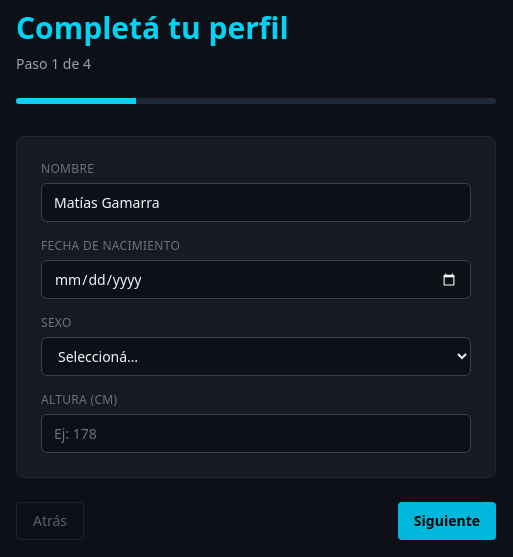
Test case: Onboarding › avanza al paso 2 con datos válidos del paso 1
Type "2002-02-18" into the date field labelled "Fecha de nacimiento" at (256, 280), box x1=41 y1=260 x2=471 y2=299
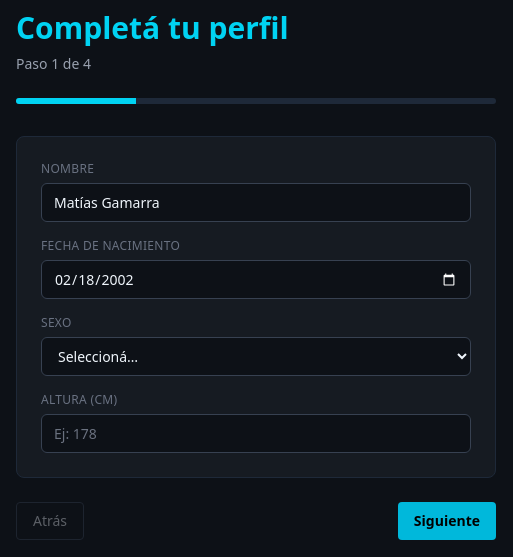
Sexo (el único select)
Select "Masculino" in the dropdown labelled "Sexo" at (256, 356), box x1=41 y1=337 x2=471 y2=376
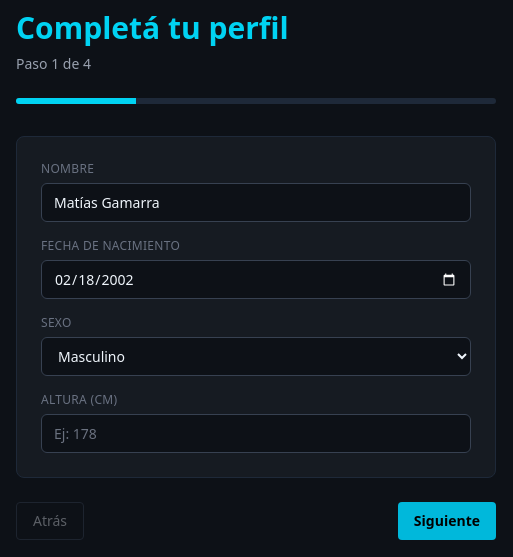
Type "170" into the number field with placeholder "Ej: 178" at (256, 434), box x1=41 y1=414 x2=471 y2=453
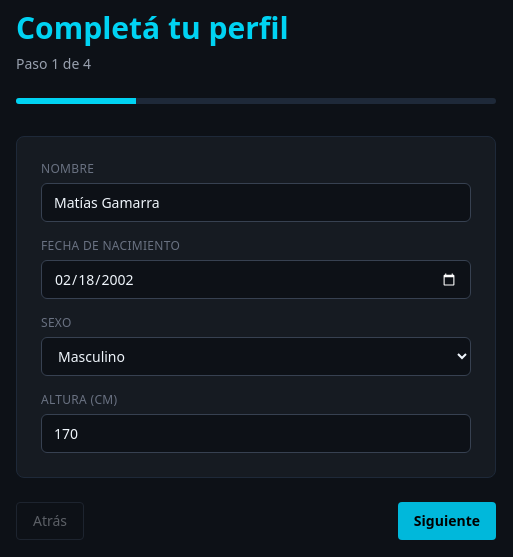
Click the button "Siguiente" at (447, 521), box x1=398 y1=502 x2=496 y2=540
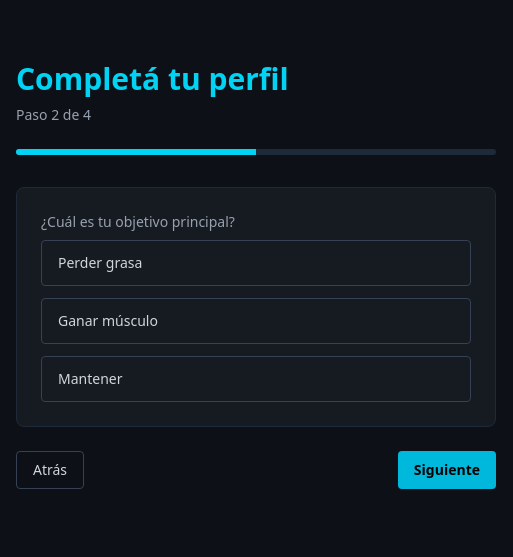
Expected: the text "Paso 2 de 4" is shown, x1=16 y1=105 x2=91 y2=124
Expected: the text "¿Cuál es tu objetivo principal?" is shown, x1=41 y1=212 x2=235 y2=231
